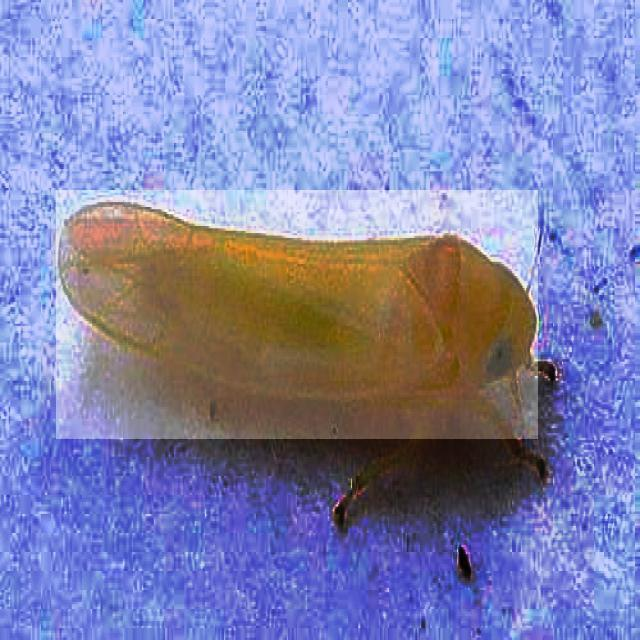green-leafhopper: (56, 190, 538, 439)
